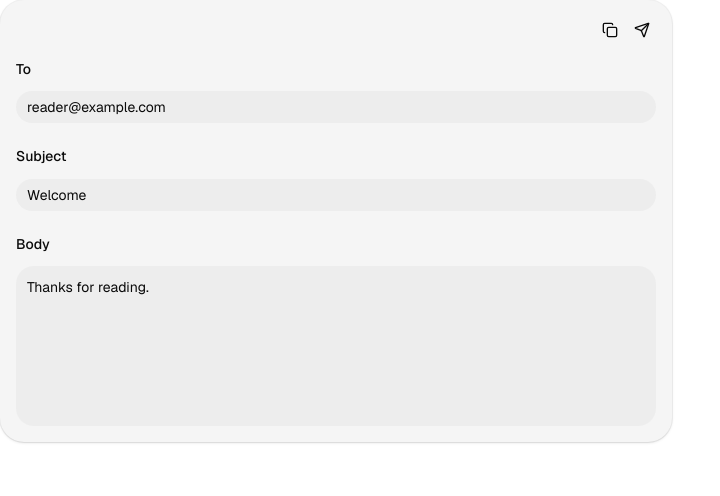
Test: EmailComposerCard › reports a visible status when the browser blocks a provider compose window
The image size is (720, 496).
Press the mouse on the button named "Choose email app": (642, 30) x1=628 y1=16 x2=656 y2=44
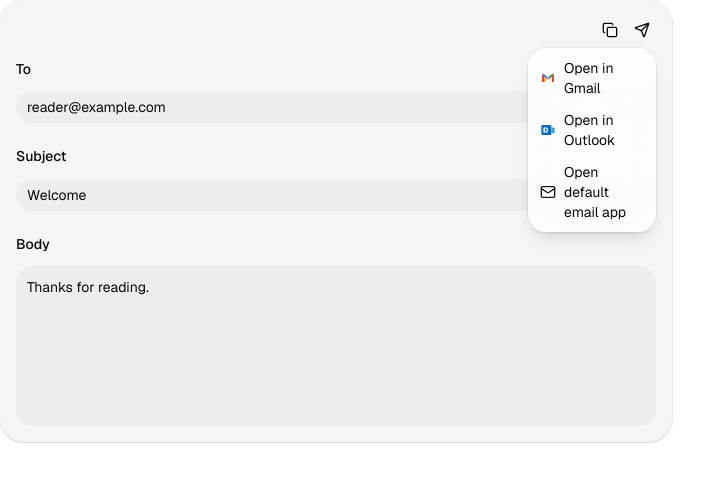
Click the menu item "Open in Gmail": (577, 78) x1=540 y1=59 x2=614 y2=97
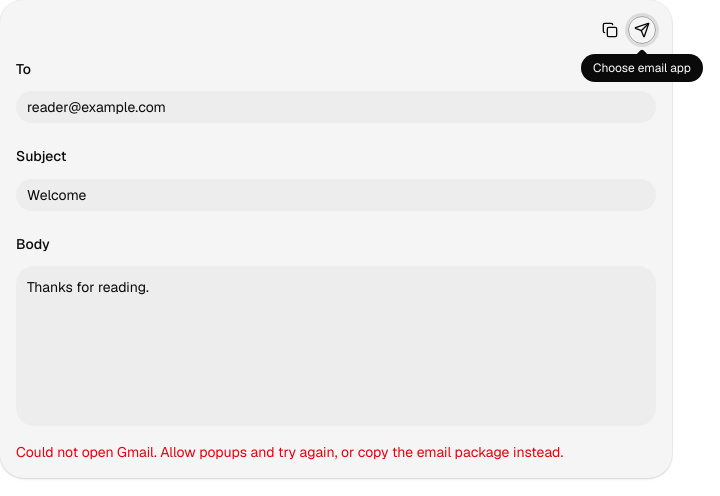
Now the message shows "Could not open Gmail. Allow popups and try again, or copy the email package instead.", box x1=16 y1=443 x2=563 y2=461
